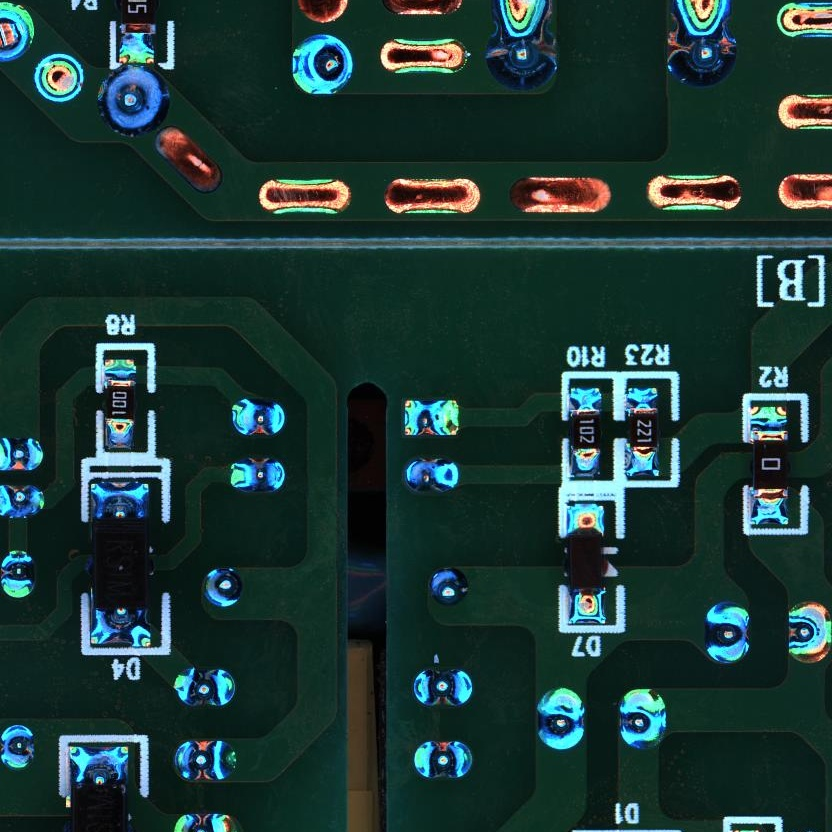spot: (94, 63, 173, 139), (662, 21, 740, 88), (484, 24, 559, 91), (289, 33, 354, 98), (535, 684, 586, 752), (702, 600, 751, 665), (786, 600, 832, 667), (618, 688, 668, 749), (172, 666, 237, 710), (174, 739, 238, 782), (31, 52, 84, 103), (412, 739, 475, 780), (403, 397, 461, 439), (410, 669, 474, 707), (228, 397, 285, 437), (228, 456, 286, 495), (403, 456, 461, 495), (1, 1, 35, 62), (202, 567, 246, 609), (1, 548, 36, 598), (1, 721, 36, 771), (1, 482, 45, 519), (170, 810, 243, 832), (1, 436, 45, 472), (430, 567, 469, 605)
